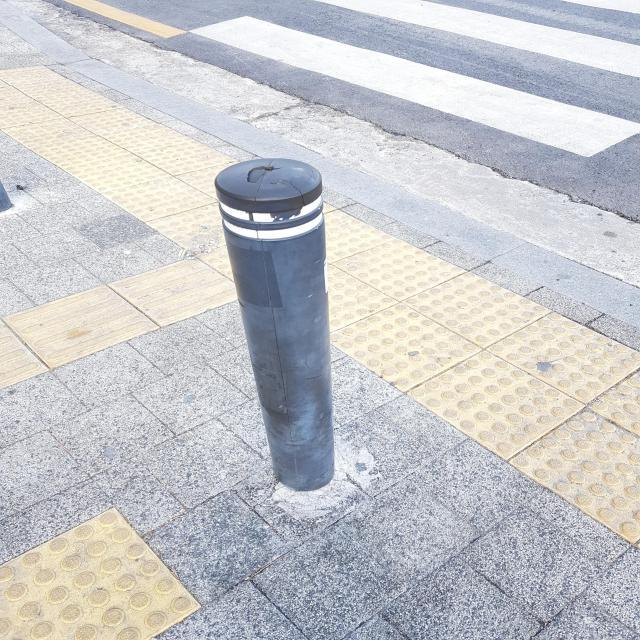pole: (214, 154, 344, 498)
